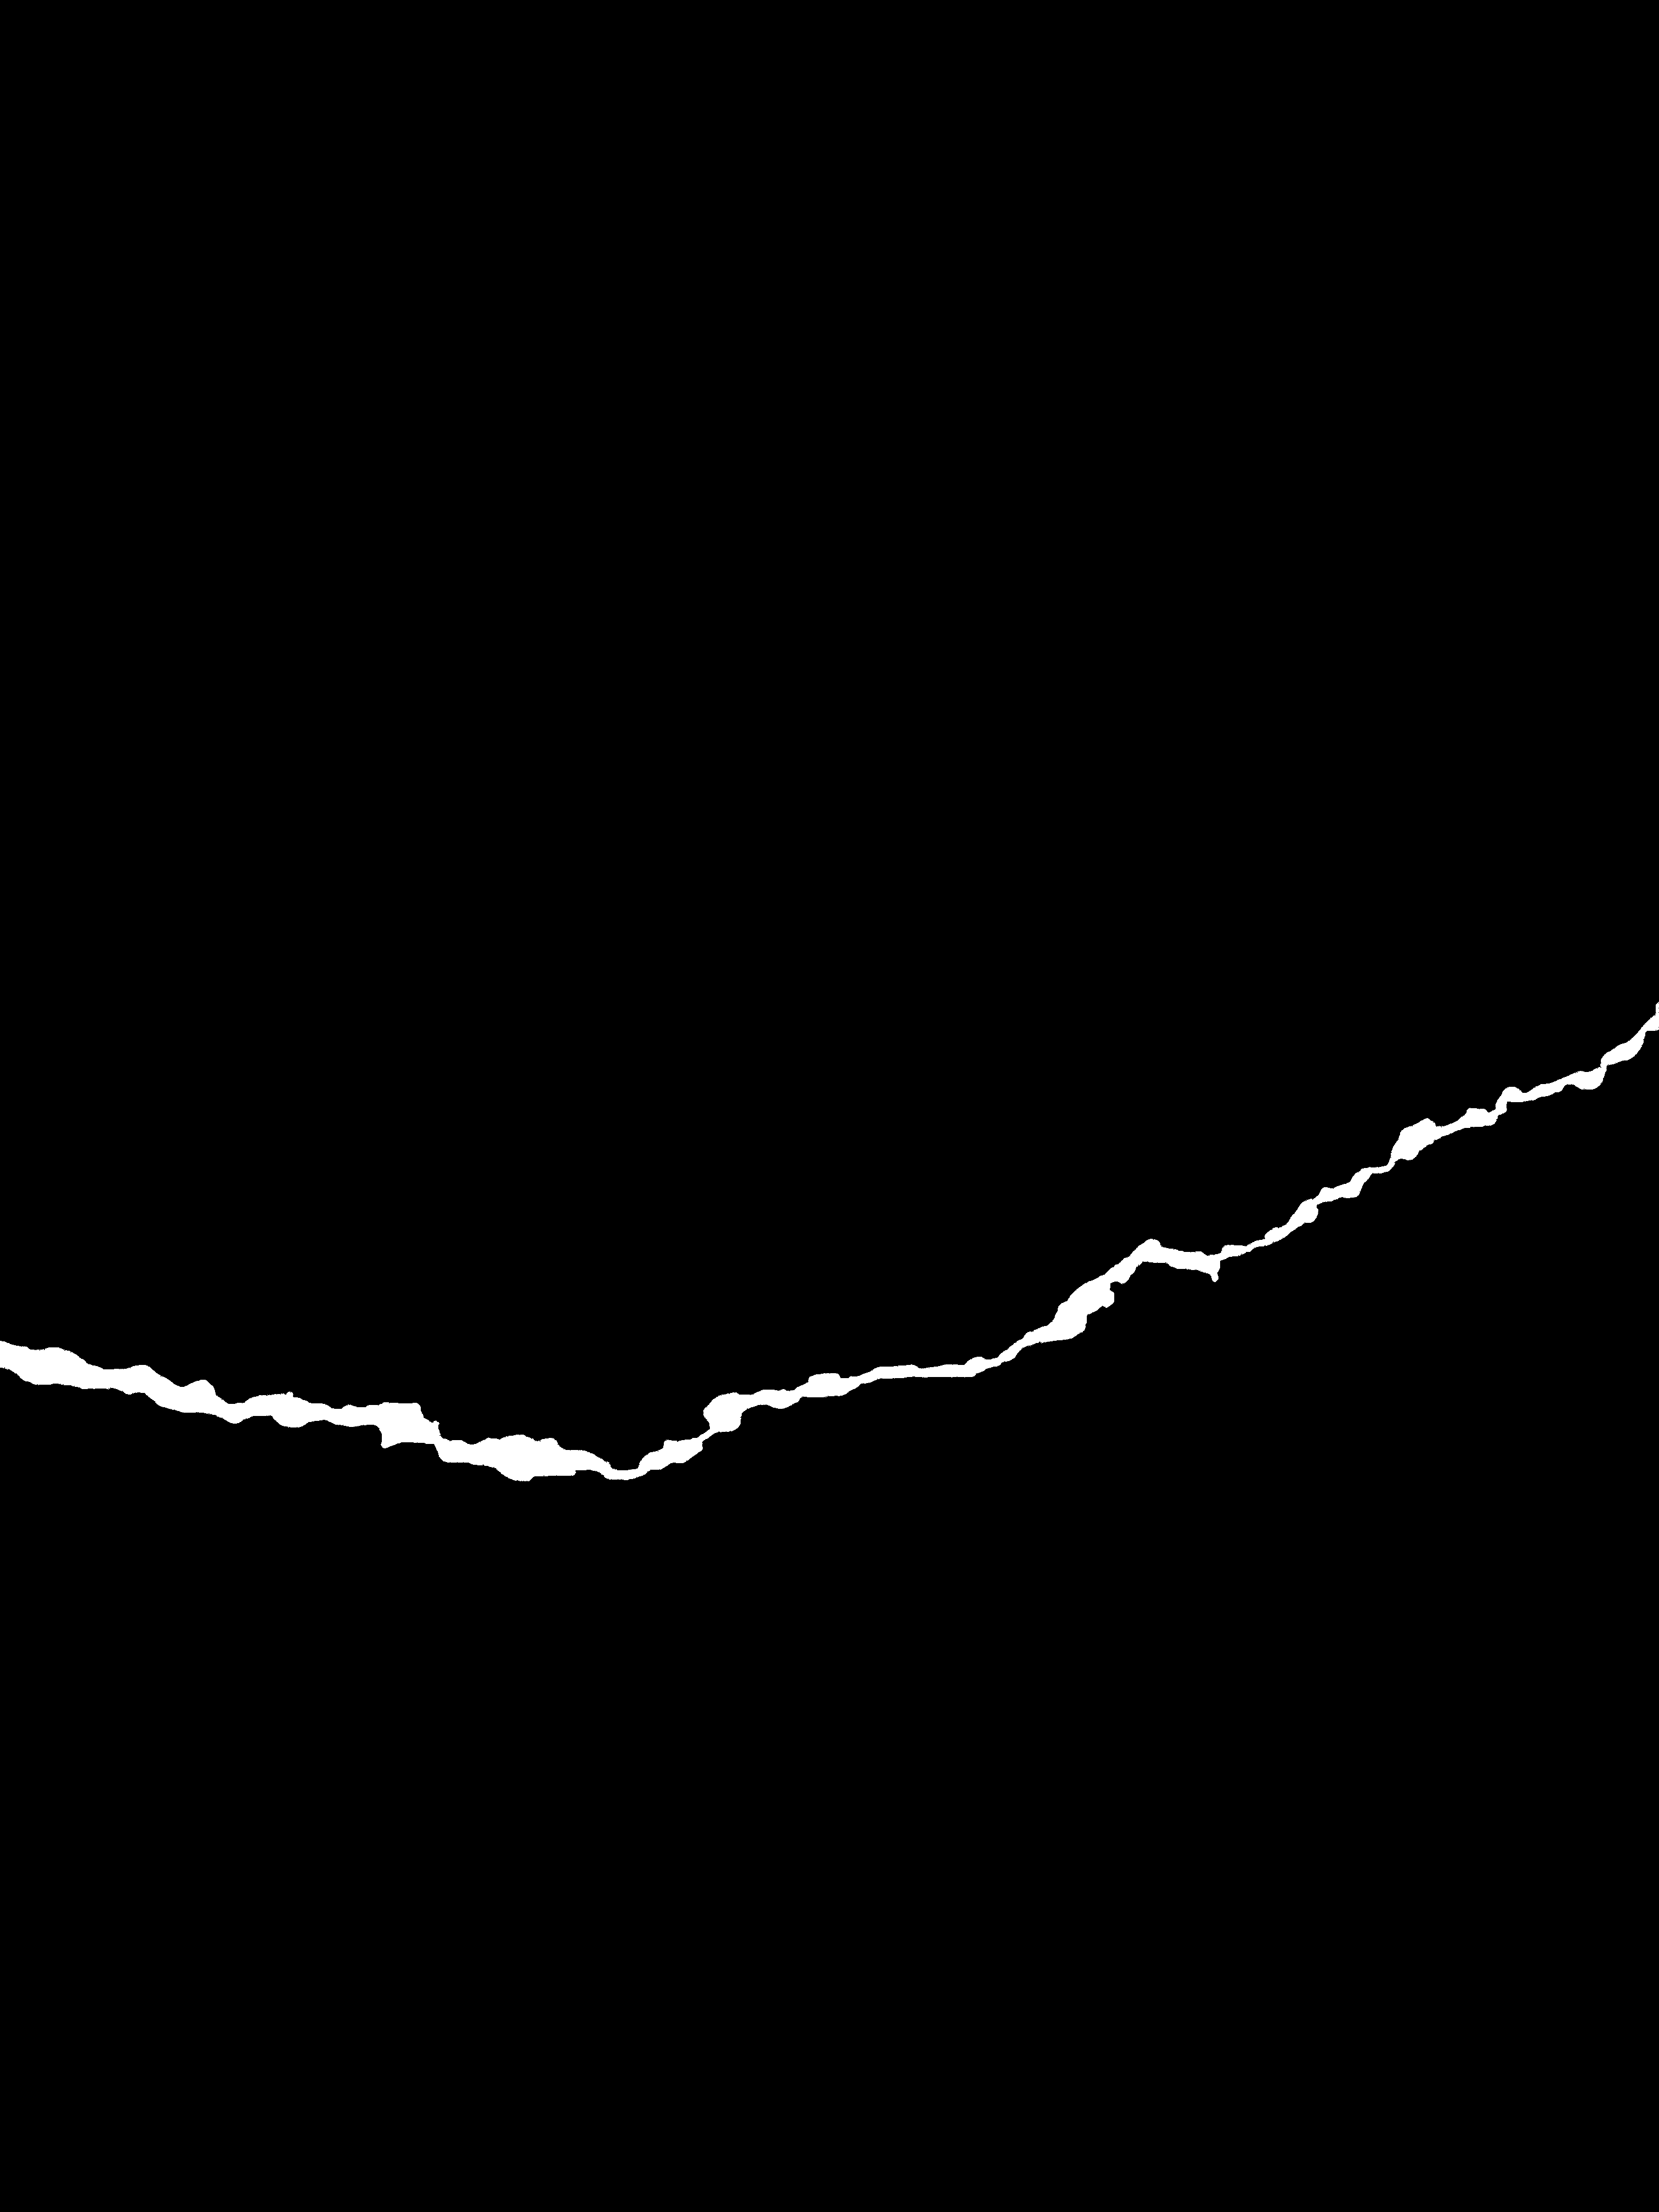Crack: (0, 991, 1659, 1510)
